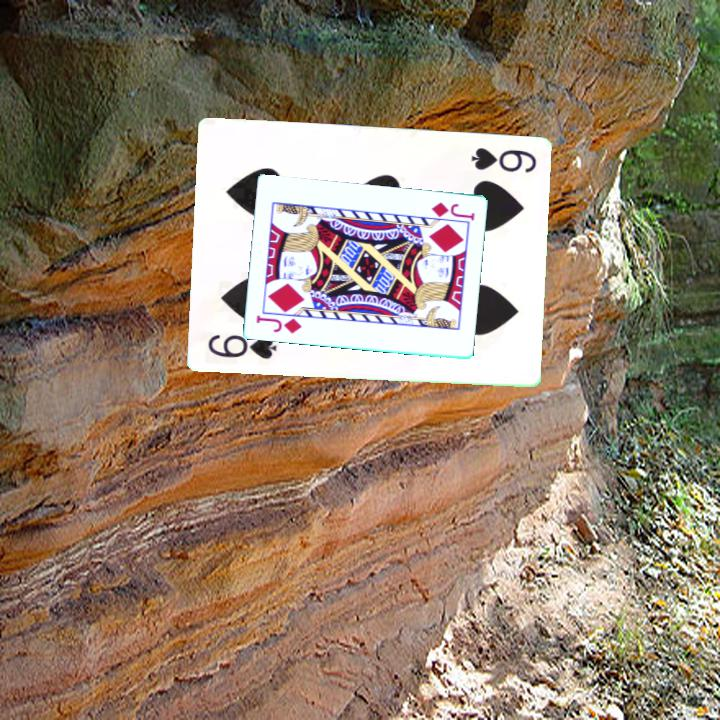6s: (204, 331, 279, 363), (467, 145, 539, 176)
Jd: (252, 310, 304, 337), (427, 199, 477, 224)
